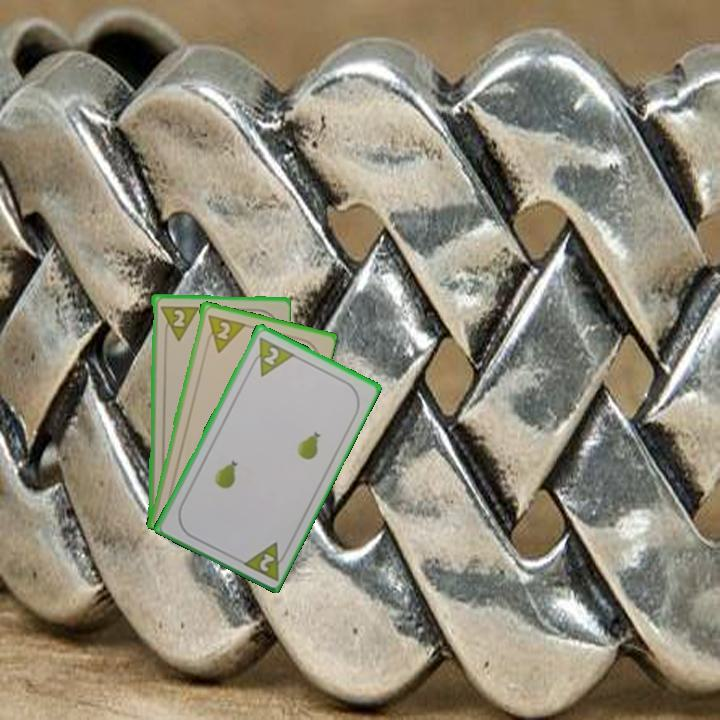2p: (238, 537, 291, 583), (245, 333, 297, 379), (203, 311, 246, 355), (156, 302, 199, 343)
